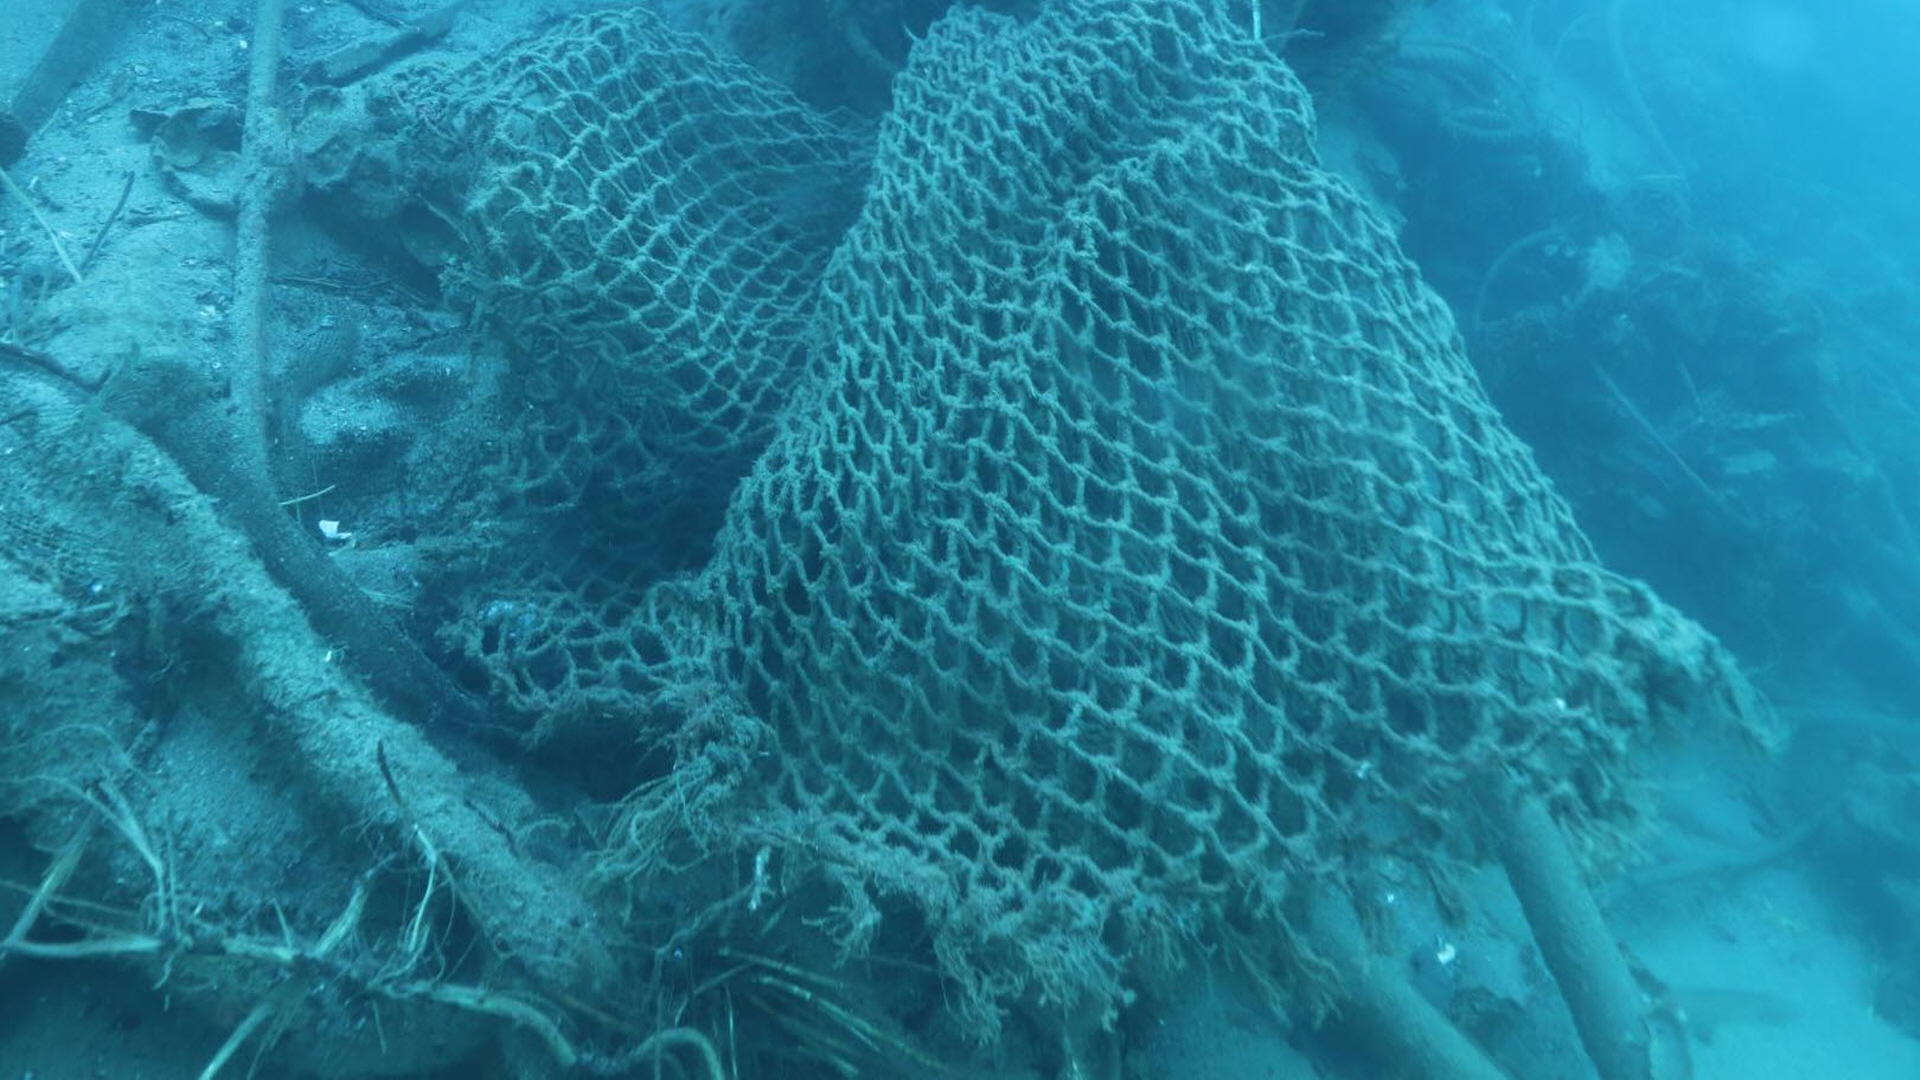fish net: (430, 0, 1662, 916)
